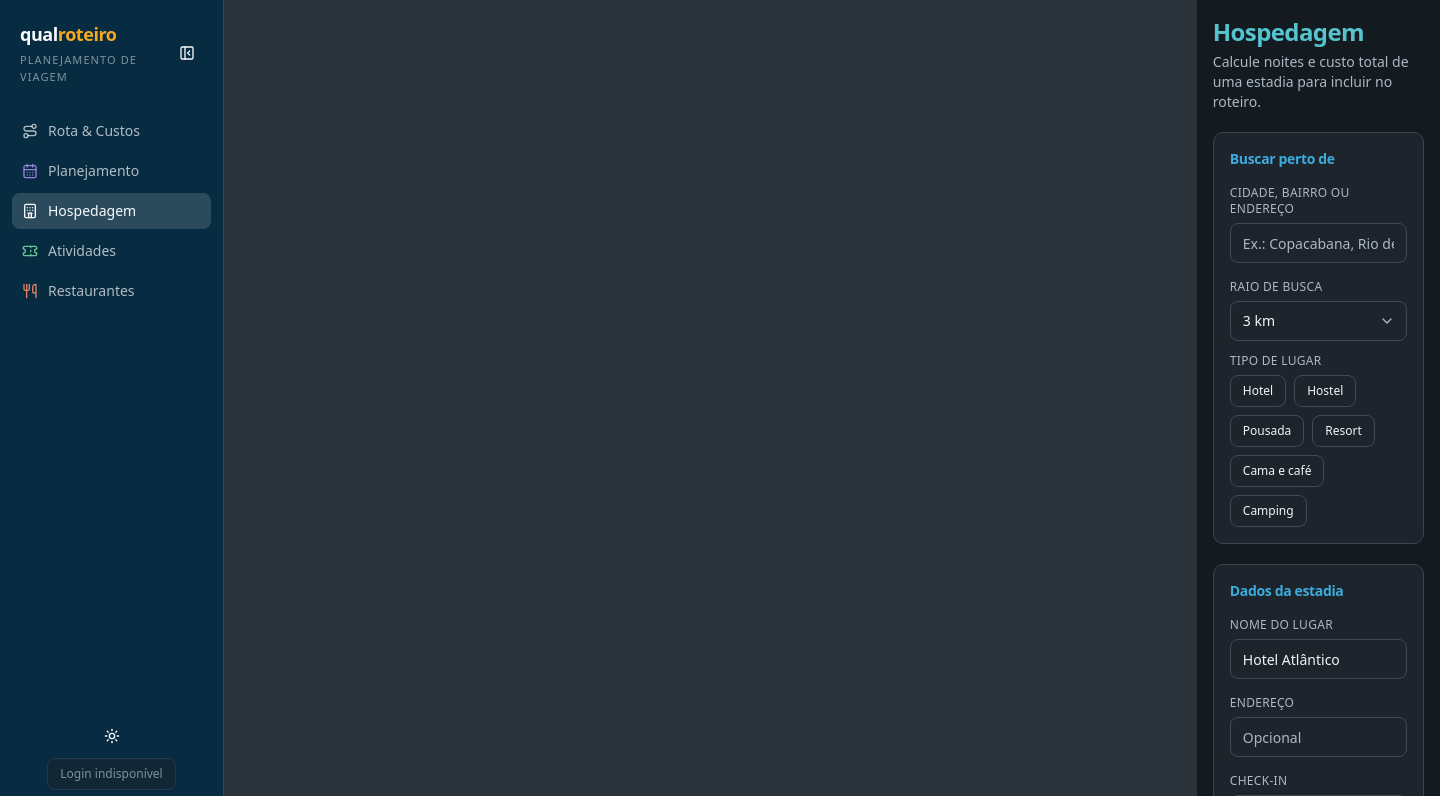
Test: AppShell › starts from the system colour scheme and persists an explicit theme choice
The image size is (1440, 796).
Click the button named "Alternar para tema claro".
click(112, 736)  # box [94,718,130,754]
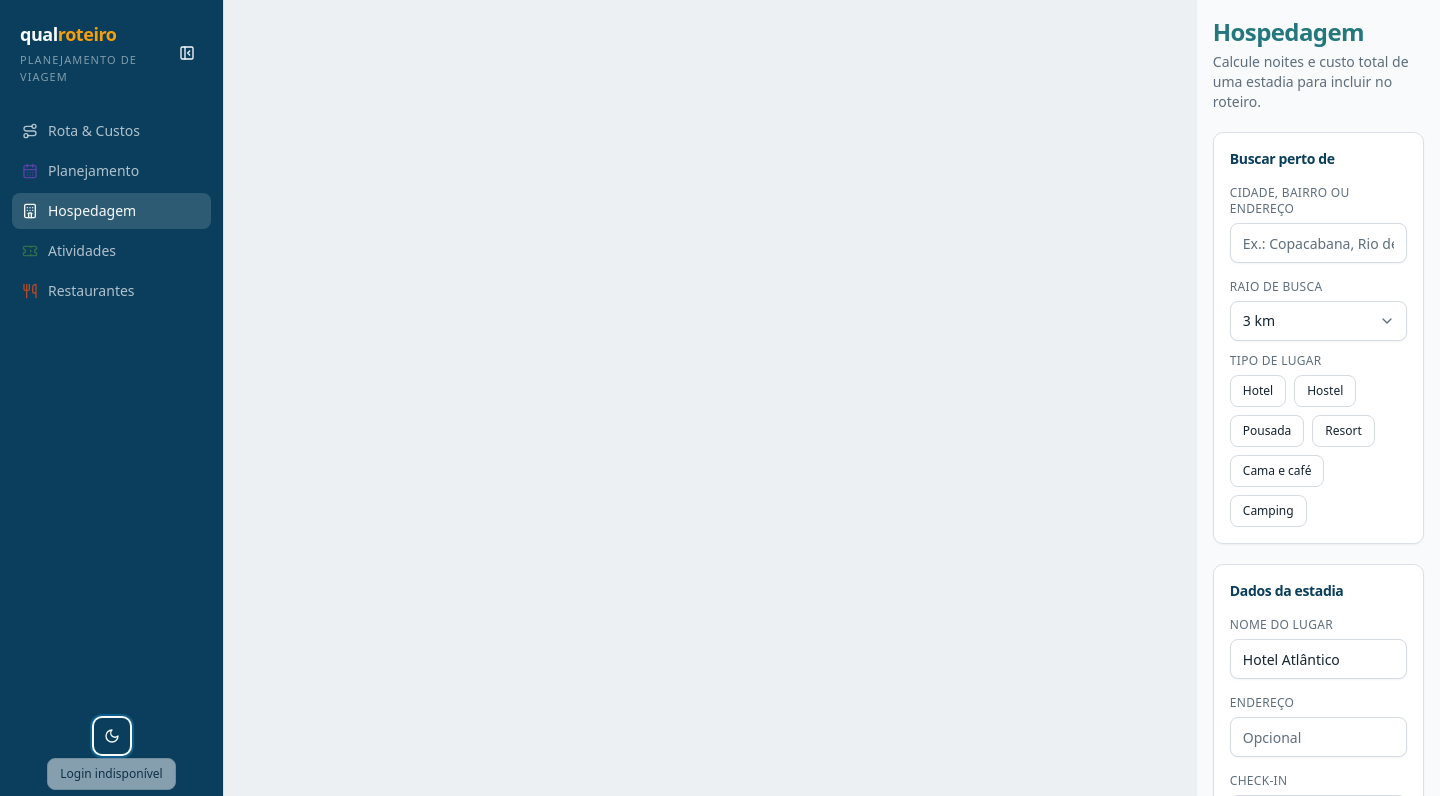
Expected: the button named "Alternar para tema escuro" is shown, [94,718,130,754]
